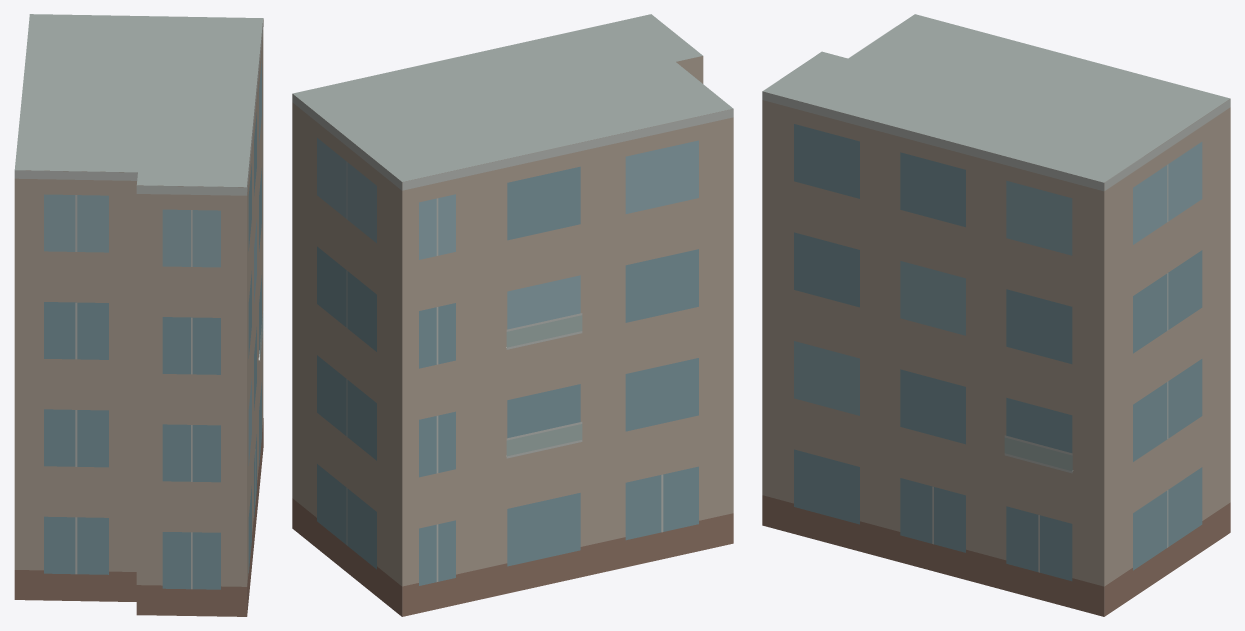
File: residential-ac03354e-db82-4484-860f-7ba2c7391d4a.glb
The picture shows the model from 3 angles, left to right: view 1: azimuth 30°, elevation 25°; view 2: azimuth 150°, elevation 25°; view 3: azimuth 270°, elevation 25°; orthographic projection.
Parts seen in each view (by area): view 1: residential-ac03354e-db82-4484-860f-7ba2c7391d4a.tmp; view 2: residential-ac03354e-db82-4484-860f-7ba2c7391d4a.tmp; view 3: residential-ac03354e-db82-4484-860f-7ba2c7391d4a.tmp.
Boxes of the visible parts, <box> form: residential-ac03354e-db82-4484-860f-7ba2c7391d4a.tmp: <box>14,14,263,616</box>; residential-ac03354e-db82-4484-860f-7ba2c7391d4a.tmp: <box>292,14,733,616</box>; residential-ac03354e-db82-4484-860f-7ba2c7391d4a.tmp: <box>762,14,1230,616</box>.
Bounding box in the file's own units: 10.18 × 12.2 × 11.93.
